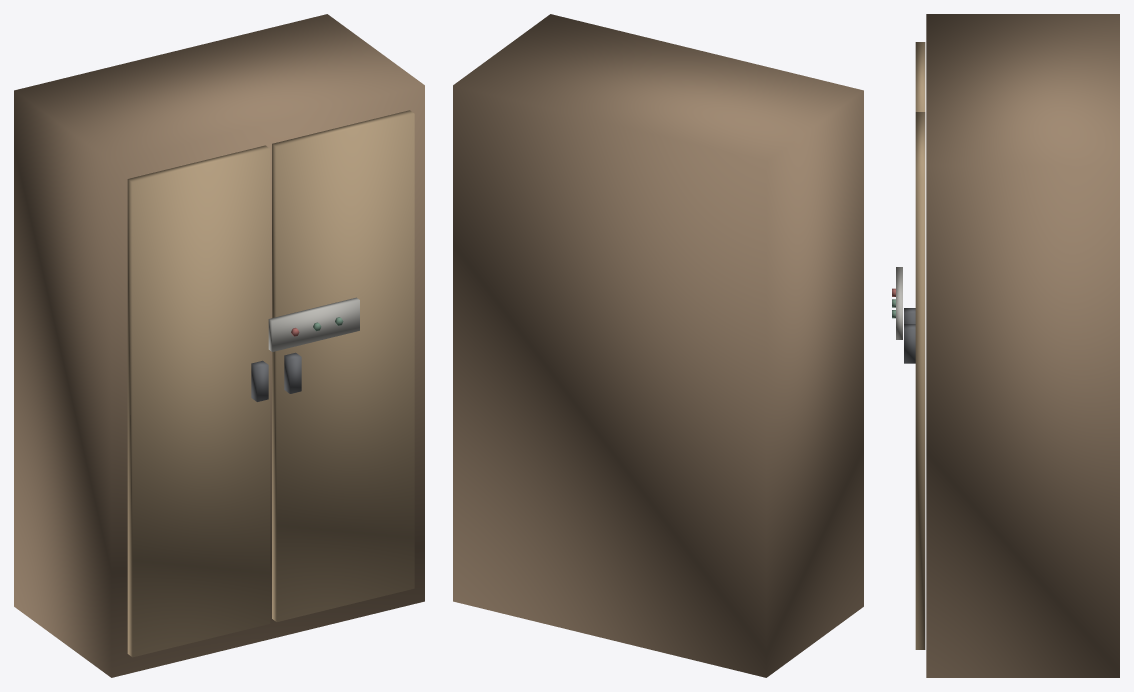
File: kitchen_wall_cabinet__compact.glb
3 renders of one model, left to right at view 1: azimuth 30°, elevation 25°; view 2: azimuth 150°, elevation 25°; view 3: azimuth 270°, elevation 25°, orthographic.
Parts seen in each view (by area): view 1: world; view 2: world; view 3: world.
Part boxes in pixels (box(x1,y1,x2,y2)): world: box(14, 14, 424, 677); world: box(453, 14, 863, 677); world: box(892, 14, 1119, 677).
Bounding box in the file's own units: 0.798 × 1.26 × 0.5061.
